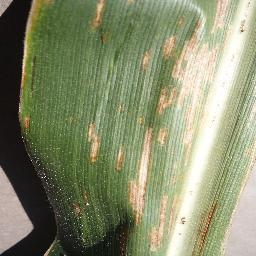Gray_Leaf_Spot: (136, 126, 188, 187), (160, 36, 207, 94), (177, 0, 246, 36), (13, 36, 37, 137), (148, 187, 180, 252), (191, 194, 219, 256), (155, 93, 214, 122), (18, 0, 56, 36), (86, 0, 112, 45), (206, 37, 229, 87), (126, 176, 146, 229), (84, 121, 106, 163), (69, 188, 89, 222), (112, 142, 129, 175), (141, 45, 153, 72), (115, 229, 127, 256), (115, 103, 127, 114), (124, 0, 140, 7), (136, 115, 146, 126)
